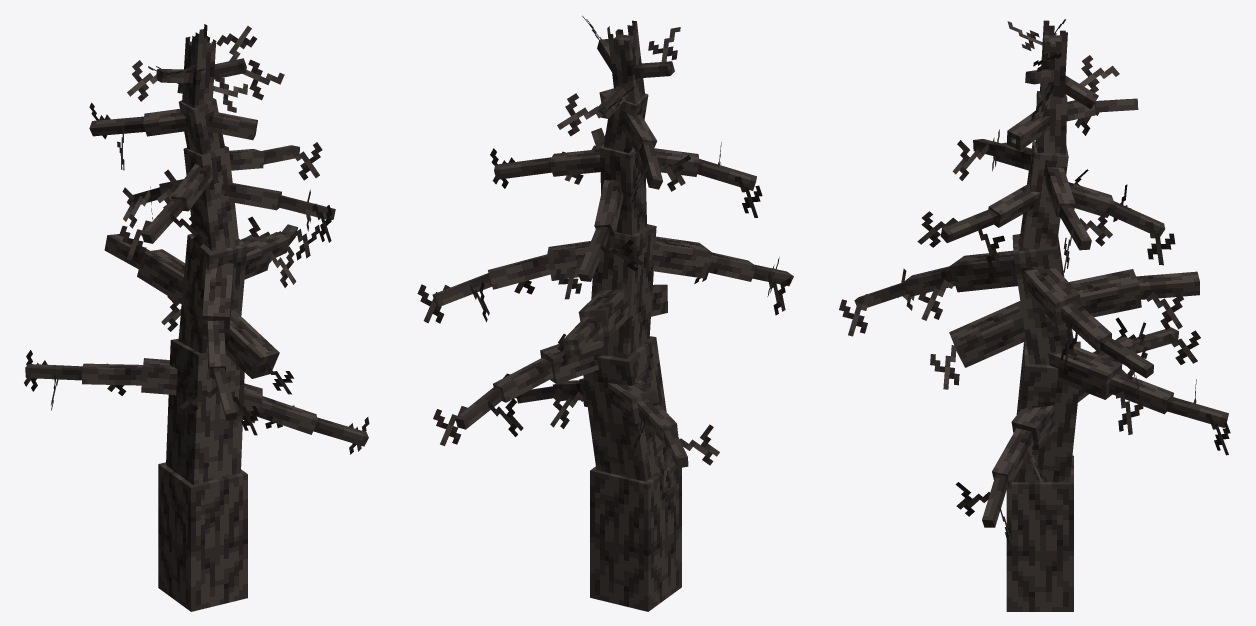
Rendered from burnt-tree-big.gltf.
3 renders of one model, left to right at view 1: azimuth 30°, elevation 25°; view 2: azimuth 150°, elevation 25°; view 3: azimuth 270°, elevation 25°, orthographic. The views are drawn at different scales.
Parts seen in each view (by area): view 1: cube; view 2: cube; view 3: cube.
Boxes of the visible parts, left/top/right/bottom form: cube: left=24, top=24, right=369, bottom=611; cube: left=417, top=15, right=793, bottom=611; cube: left=839, top=19, right=1230, bottom=611.
Size of the model in its own units: 3.95 by 7.11 by 4.6.
1 material, 1 textured.
